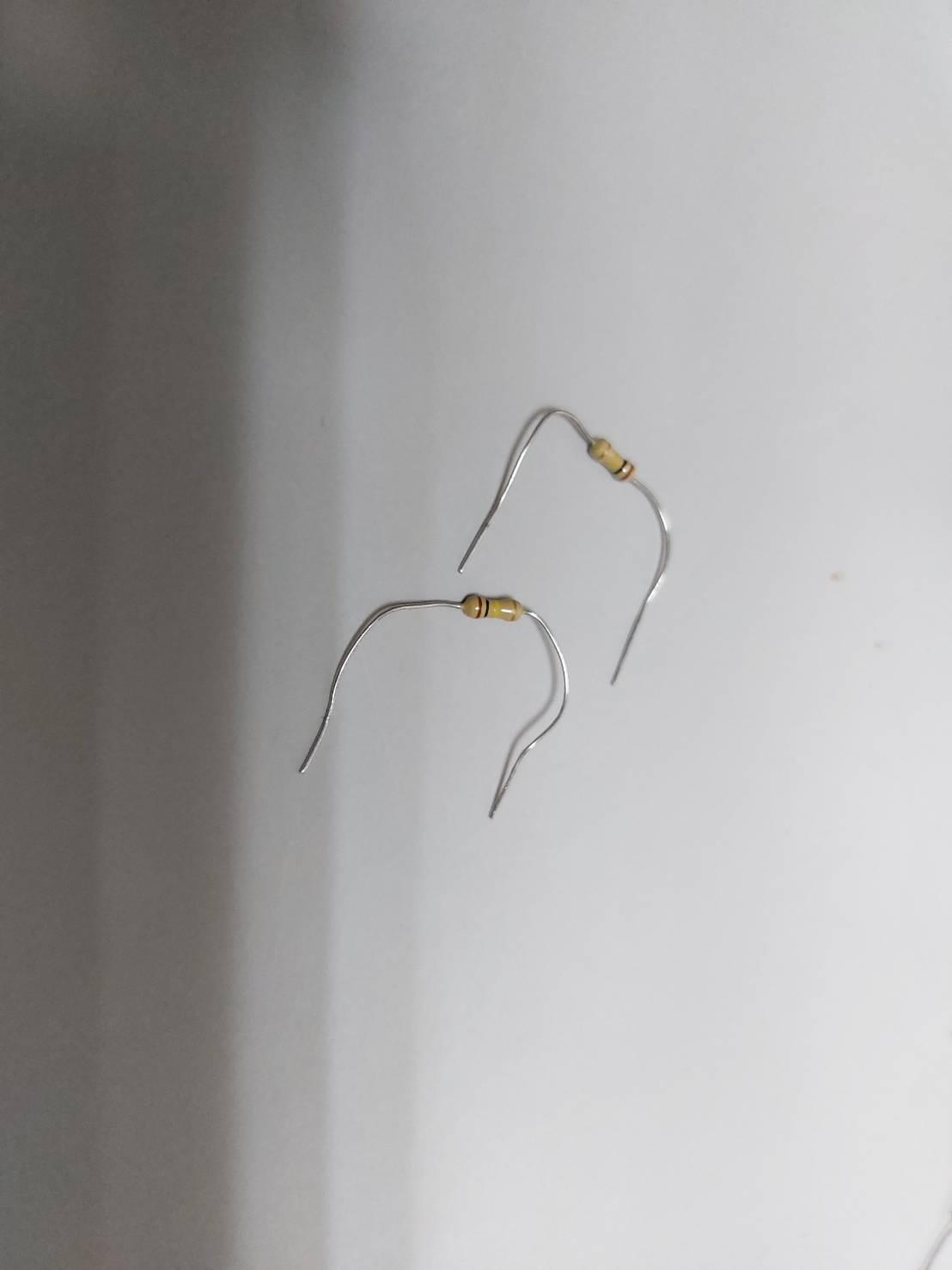resistor: (459, 593, 528, 625), (588, 439, 636, 484)
